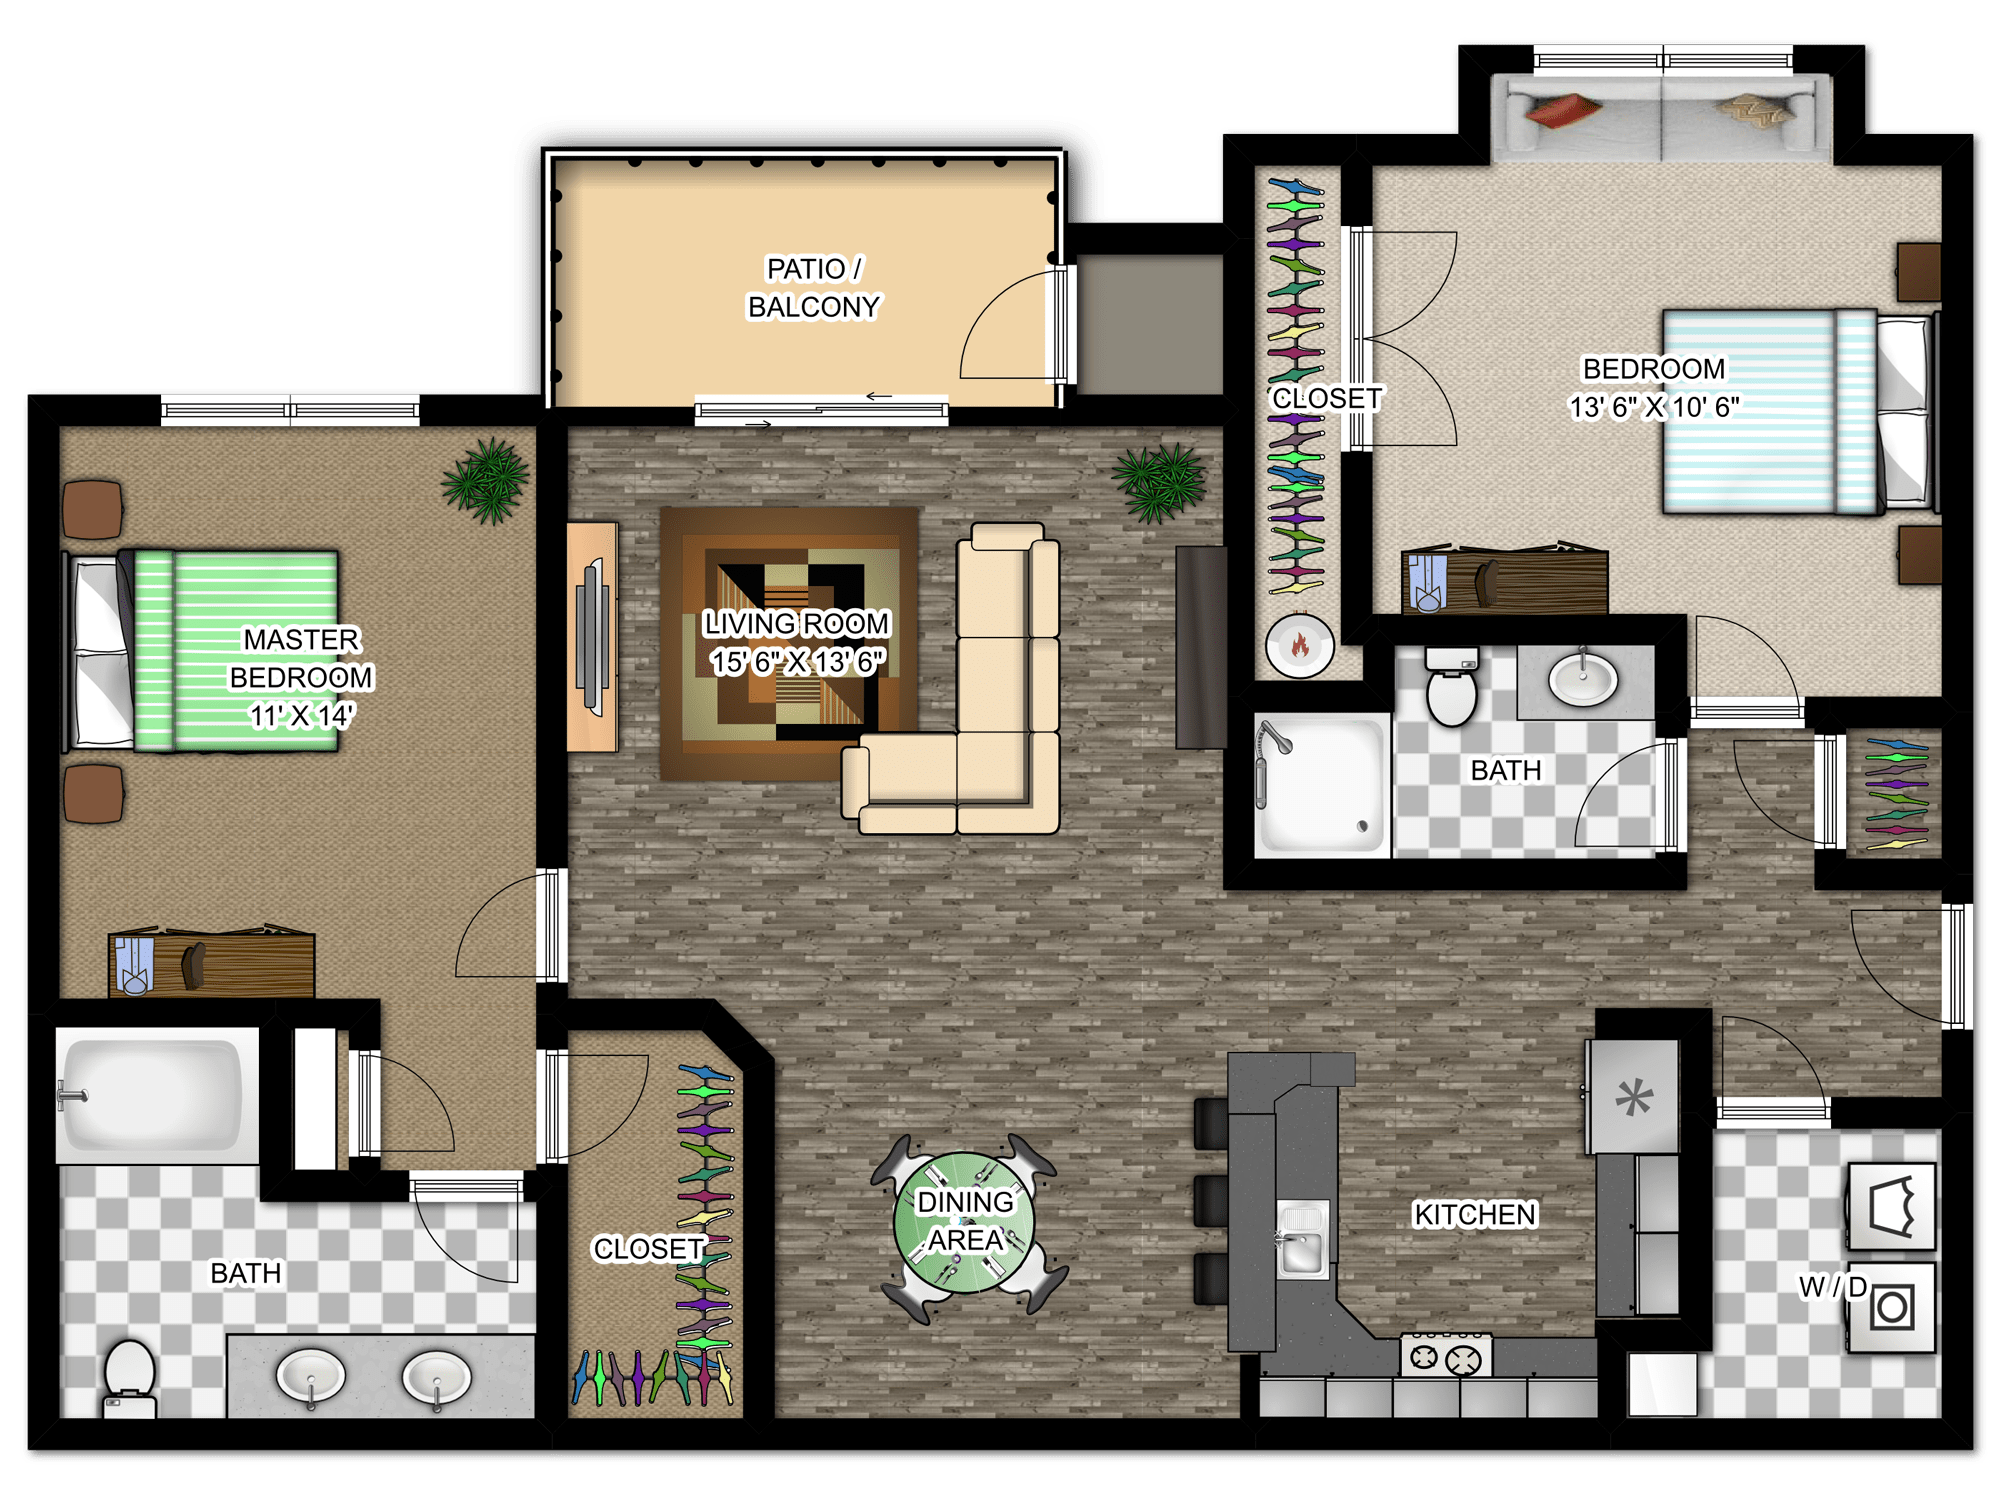window: (154, 389, 428, 433), (690, 395, 950, 433), (1529, 39, 1800, 74)
